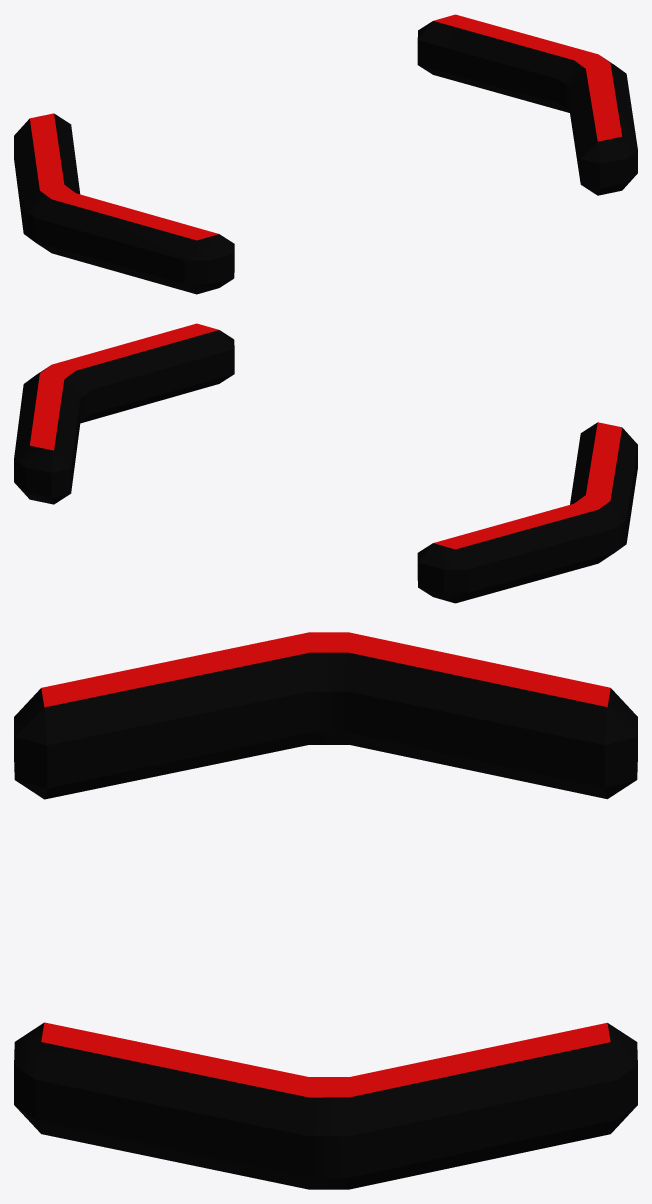
The model's file is cursor.fbx.
3 renders of one model, top to bottom at view 1: azimuth 30°, elevation 25°; view 2: azimuth 150°, elevation 25°; view 3: azimuth 270°, elevation 25°, orthographic. The views are drawn at different scales.
Parts seen in each view (by area): view 1: cursor; view 2: cursor; view 3: cursor.
Boxes of the visible parts, x1=… form: cursor: x1=14, y1=14, x2=637, y2=294; cursor: x1=14, y1=323, x2=637, y2=603; cursor: x1=14, y1=632, x2=637, y2=1189.
Bounding box in the file's own units: 1.87 × 0.1633 × 1.
